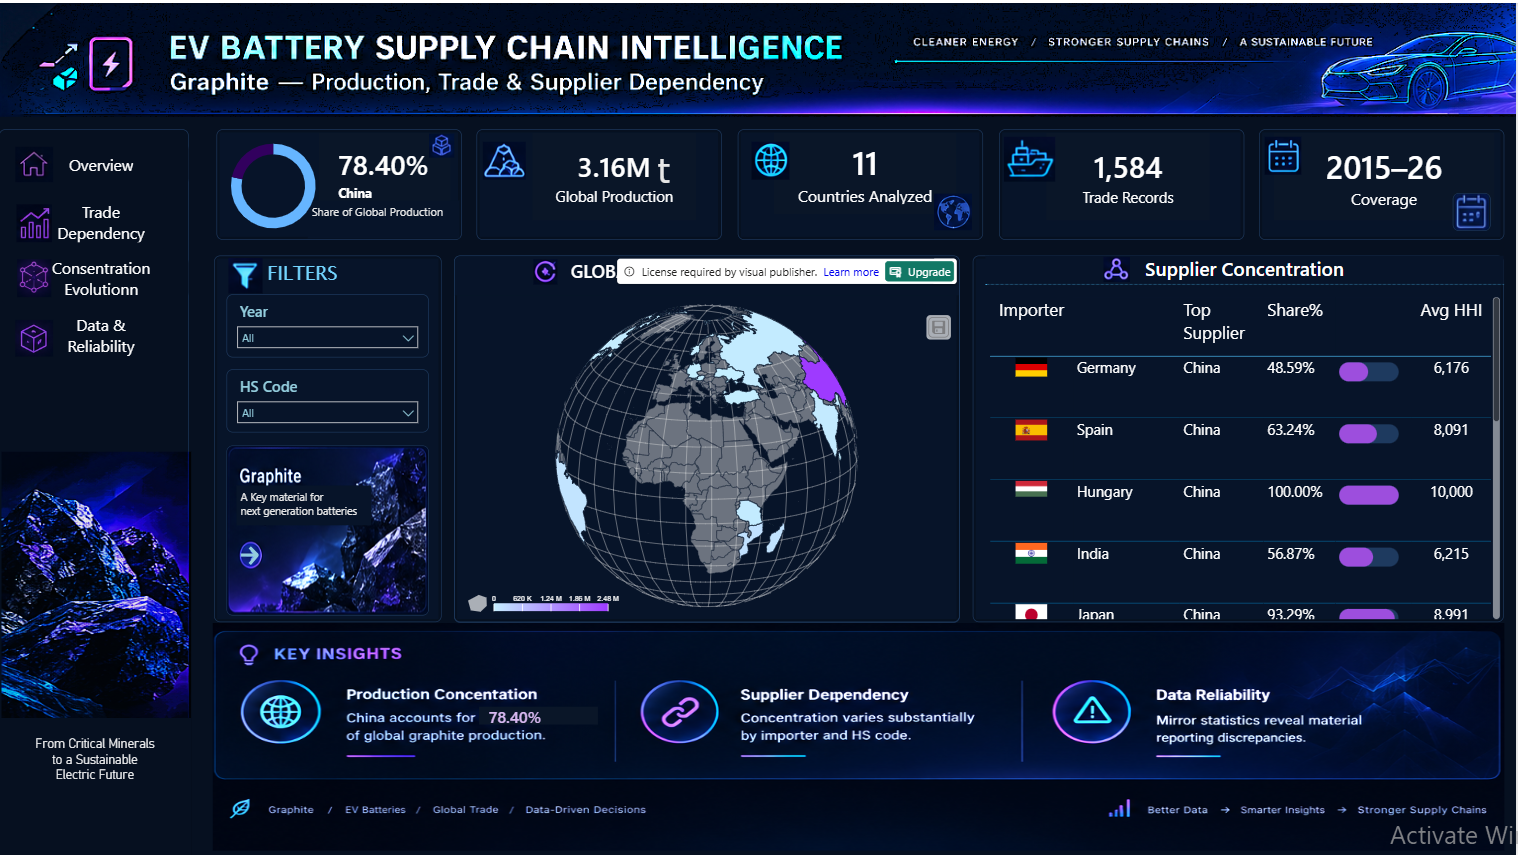

The dashboard page shown, as its layout file describes it:
{"tool":"powerbi","page":{"name":"Executive Intelligence","canvas":[1920,1080],"ordinal":0},"visuals":[{"type":"image","box":[0,0,1920,144],"z":0},{"type":"shape","box":[605,160,310,140],"z":0,"group":"g1"},{"type":"shape","box":[935,160,310,140],"z":0,"group":"g2"},{"type":"shape","box":[0,168,240,72],"z":0,"group":"g4"},{"type":"shape","box":[24,240,192,72],"z":0,"group":"g5"},{"type":"shape","box":[0,312,240,72],"z":0,"group":"g6"},{"type":"shape","box":[24,384,192,72],"z":0,"group":"g7"},{"type":"image","box":[270,784,1634,288],"z":0,"group":"g3"},{"type":"cardVisual","fields":{"Data":["ev fact_production.Global Production Tonnes"]},"box":[672,160,216,120],"z":1000,"group":"g1"},{"type":"cardVisual","fields":{"Data":["ev v_country_dependency.Total Importers"]},"box":[976,160,240,112],"z":1000,"group":"g2"},{"type":"actionButton","box":[34,168,192,72],"z":1000,"group":"g4"},{"type":"actionButton","box":[51.2,240,153.6,72],"z":1000,"group":"g5"},{"type":"actionButton","box":[34,312,192,72],"z":1000,"group":"g6"},{"type":"shape","box":[1232,320,672,464],"z":1000},{"type":"actionButton","box":[51.2,384,153.6,72],"z":1000,"group":"g7"},{"type":"cardVisual","fields":{"Data":["ev fact_production.China Production Share %"]},"box":[602,885,160,32],"z":1000,"group":"g3"},{"type":"shape","box":[275,160,310,140],"z":2000},{"type":"image","box":[944,176,64,48],"z":2000,"group":"g2"},{"type":"textbox","box":[830,180,48,65],"z":2000,"group":"g1"},{"type":"shape","title":"SIDEBAR","box":[0,160,240,910],"z":3000},{"type":"image","box":[608,176,64,48],"z":3000,"group":"g1"},{"type":"image","box":[1184,240,48,48],"z":3000,"group":"g2"},{"type":"cardVisual","fields":{"Data":["ev fact_production.China Production Share %"]},"box":[400,160,176,112],"z":4000},{"type":"image","box":[3,568,240,512],"z":5000},{"type":"textbox","box":[390,250,192,48],"z":6000},{"type":"textbox","box":[0,904,243,176],"z":7000},{"type":"donutChart","fields":{"Y":["ev fact_production.China Production Share %","ev fact_production.Remaining Production Share %"]},"box":[275,160,144,144],"z":8000},{"type":"image","box":[544,165,32,32],"z":9000},{"type":"shape","box":[1265,160,310,140],"z":10000},{"type":"shape","box":[1595,160,310,140],"z":11000},{"type":"group","id":"g1","title":"KPI_2_GlobalProduction","box":[605,160,310,140],"z":12000},{"type":"group","id":"g2","title":"KPI_3_Countries","box":[935,160,310,140],"z":13000},{"type":"cardVisual","fields":{"Data":["ev fact_trade.Trade Observations1"]},"box":[1320,160,216,120],"z":14000},{"type":"cardVisual","fields":{"Data":["ev dim_date.Coverage Range"]},"box":[1608,160,288,120],"z":15000},{"type":"image","box":[1272,168,65,60],"z":16000},{"type":"image","box":[1600,170,48,48],"z":17000},{"type":"shape","box":[272,320,288,464],"z":18000},{"type":"slicer","title":"YEAR","fields":{"Values":["ev dim_date.year"]},"box":[288,368,256,80],"z":19000},{"type":"textbox","box":[288,320,192,48],"z":20000},{"type":"image","box":[288,323,48,45],"z":21000},{"type":"shape","box":[576,320,640,464],"z":22000},{"type":"maps","title":"GLOBAL GRAPHITE PRODUCTION","fields":{"country":["ev dim_country.country_name"],"measure":["ev fact_production.Global Production Tonnes"],"name":["ev fact_production.Global Production Tonnes"]},"box":[576,320,640,465],"z":23000},{"type":"slicer","fields":{"Values":["ev v_country_dependency.hs_code"]},"box":[288,464,256,80],"z":24000},{"type":"image","box":[288,560,256,215],"z":25000},{"type":"textbox","box":[300,610,170,50],"z":26000},{"type":"actionButton","box":[300,683,32,32],"z":27000},{"type":"tableEx","title":"Supplier Concentration","fields":{"Values":["ev dim_country.flag_url","ev dim_country.country_name","ev v_supplier_share.Top Supplier","ev v_supplier_share.Top Supplier Share %","ev v_supplier_share.Bar SVG","ev v_country_dependency.Avg HHI"]},"box":[1248,320,656,464],"z":28000},{"type":"image","box":[1392,321,45,32],"z":29000},{"type":"image","box":[675,325,32,32],"z":30000},{"type":"image","box":[1840,240,48,48],"z":31000},{"type":"group","id":"g3","title":"KEY_INSIGHT","box":[270,784,1634,288],"z":32000},{"type":"group","id":"g4","title":"Group 1","box":[0,168,240,72],"z":34000,"group":"g8"},{"type":"group","id":"g5","title":"Group 1","box":[24,240,192,72],"z":35000,"group":"g9"},{"type":"group","id":"g6","title":"Group 1","box":[0,312,240,72],"z":36000,"group":"g10"},{"type":"group","id":"g7","title":"Group 1","box":[24,384,192,72],"z":37000,"group":"g11"},{"type":"image","box":[20,180,48,48],"z":37500,"group":"g8"},{"type":"image","box":[20,255,48,48],"z":37501,"group":"g9"},{"type":"image","box":[20,325,48,48],"z":37502,"group":"g10"},{"type":"image","box":[20,400,48,48],"z":37503,"group":"g11"},{"type":"group","id":"g8","title":"Group 2","box":[0,168,240,72],"z":37504},{"type":"group","id":"g9","title":"Group 3","box":[20,240,196,72],"z":37505},{"type":"group","id":"g10","title":"Group 4","box":[0,312,240,72],"z":37506},{"type":"group","id":"g11","title":"Group 5","box":[20,384,196,72],"z":37507}]}

Visuals, with their boxes in screenshot pixels (x1, y1, x2, y2), scaled from the page's 1920x1080 canvas onto the 1518x855 screenshot:
image: [0,0,1517,114]
shape: [478,127,723,238]
shape: [739,127,984,238]
shape: [0,133,190,190]
shape: [19,190,171,247]
shape: [0,247,190,304]
shape: [19,304,171,361]
image: [213,621,1505,849]
cardVisual - ev fact_production.Global Production Tonnes: [531,127,702,222]
cardVisual - ev v_country_dependency.Total Importers: [772,127,961,215]
actionButton: [27,133,179,190]
actionButton: [40,190,162,247]
actionButton: [27,247,179,304]
shape: [974,253,1505,621]
actionButton: [40,304,162,361]
cardVisual - ev fact_production.China Production Share %: [476,701,602,726]
shape: [217,127,463,238]
image: [746,139,797,177]
textbox: [656,142,694,194]
"SIDEBAR" shape: [0,127,190,847]
image: [481,139,531,177]
image: [936,190,974,228]
cardVisual - ev fact_production.China Production Share %: [316,127,455,215]
image: [2,450,192,854]
textbox: [308,198,460,236]
textbox: [0,716,192,854]
donutChart - ev fact_production.China Production Share % x ev fact_production.Remaining Production Share %: [217,127,331,241]
image: [430,131,455,156]
shape: [1000,127,1245,238]
shape: [1261,127,1506,238]
"KPI_2_GlobalProduction" group: [478,127,723,238]
"KPI_3_Countries" group: [739,127,984,238]
cardVisual - ev fact_trade.Trade Observations1: [1044,127,1214,222]
cardVisual - ev dim_date.Coverage Range: [1271,127,1499,222]
image: [1006,133,1057,180]
image: [1265,135,1303,173]
shape: [215,253,443,621]
"YEAR" slicer: [228,291,430,355]
textbox: [228,253,380,291]
image: [228,256,266,291]
shape: [455,253,961,621]
"GLOBAL GRAPHITE PRODUCTION" maps: [455,253,961,621]
slicer - ev v_country_dependency.hs_code: [228,367,430,431]
image: [228,443,430,614]
textbox: [237,483,372,522]
actionButton: [237,541,262,566]
"Supplier Concentration" tableEx: [987,253,1505,621]
image: [1101,254,1136,279]
image: [534,257,559,283]
image: [1455,190,1493,228]
"KEY_INSIGHT" group: [213,621,1505,849]
"Group 1" group: [0,133,190,190]
"Group 1" group: [19,190,171,247]
"Group 1" group: [0,247,190,304]
"Group 1" group: [19,304,171,361]
image: [16,142,54,180]
image: [16,202,54,240]
image: [16,257,54,295]
image: [16,317,54,355]
"Group 2" group: [0,133,190,190]
"Group 3" group: [16,190,171,247]
"Group 4" group: [0,247,190,304]
"Group 5" group: [16,304,171,361]
